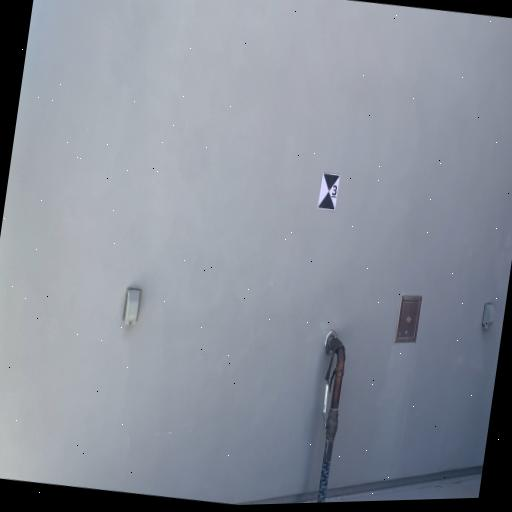target3: (318, 171, 341, 211)
